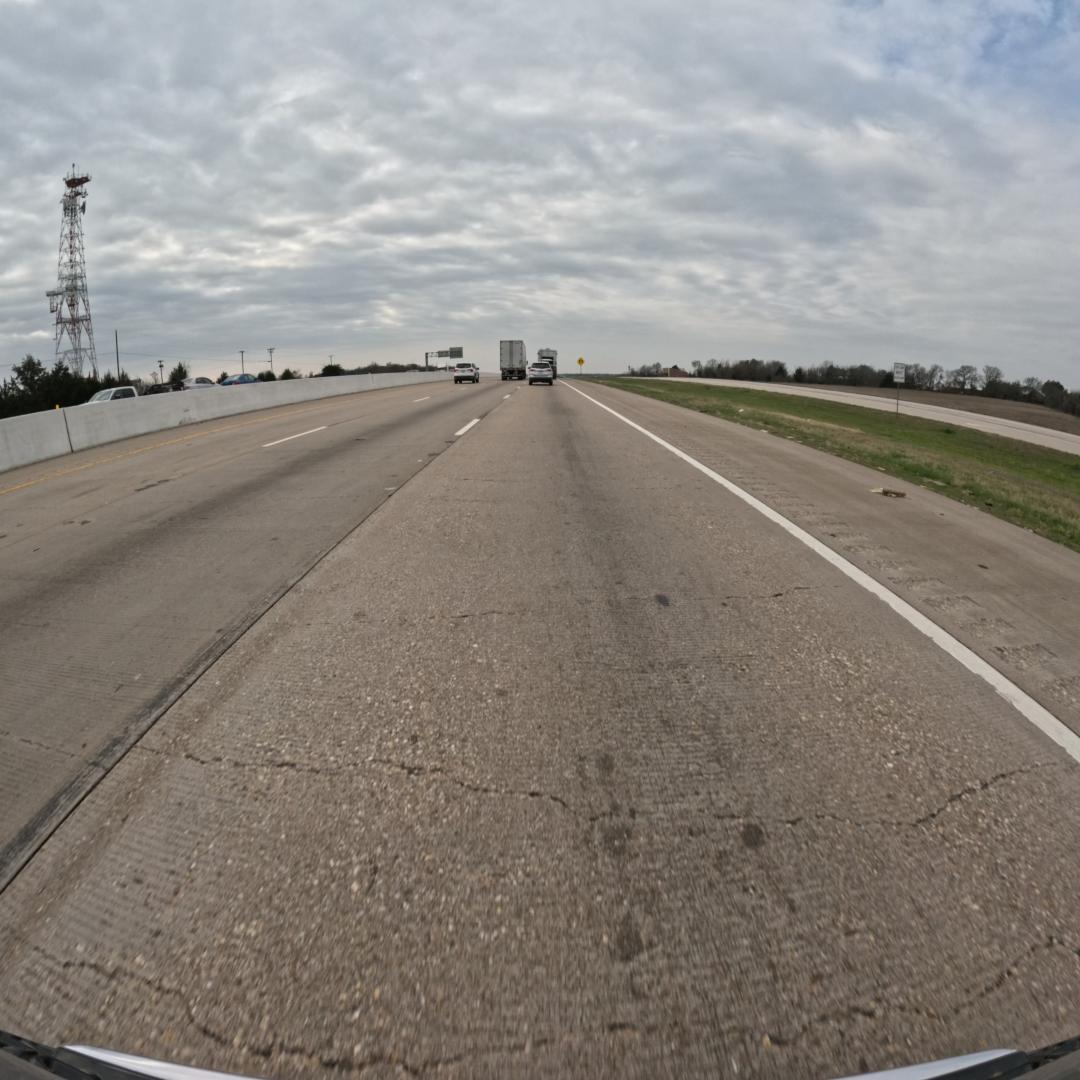lane0: (0, 385, 1080, 1077)
lane1: (0, 381, 519, 890)
